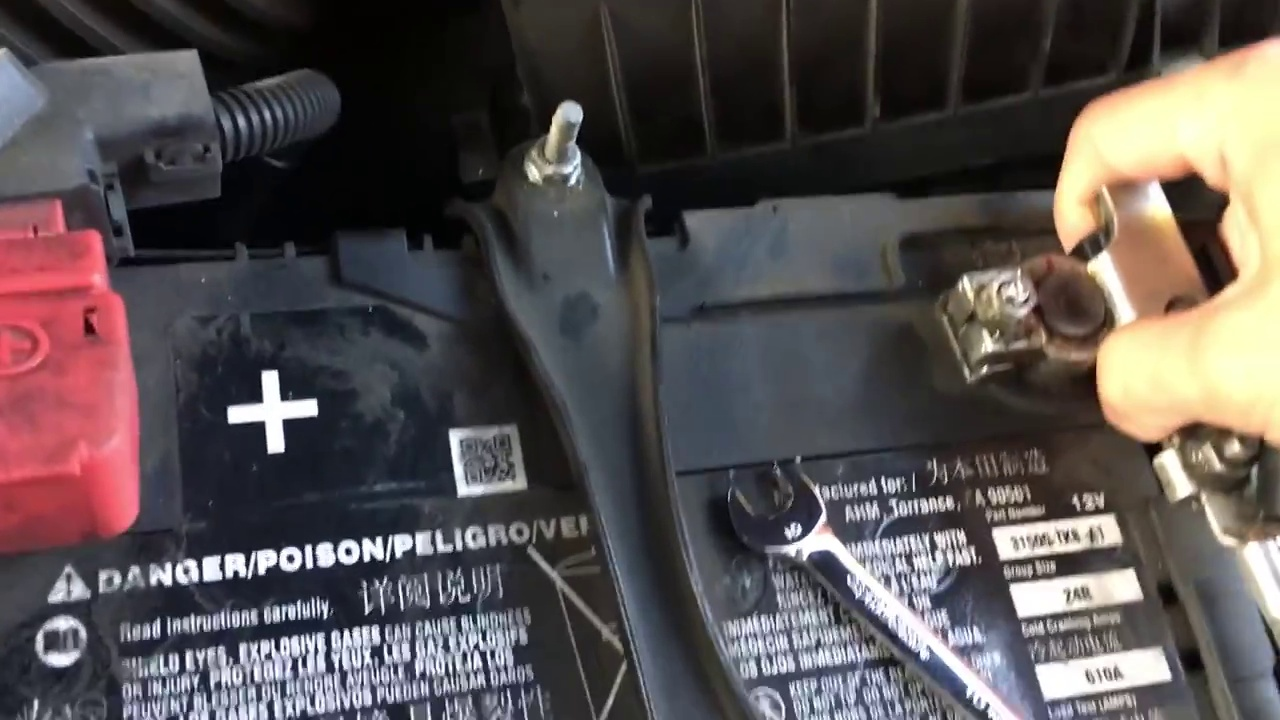battery: (2, 180, 1279, 720)
neg_connected: (891, 197, 1217, 392)
neg_touched: (960, 72, 1272, 514)
pos_connected: (3, 202, 159, 552)
